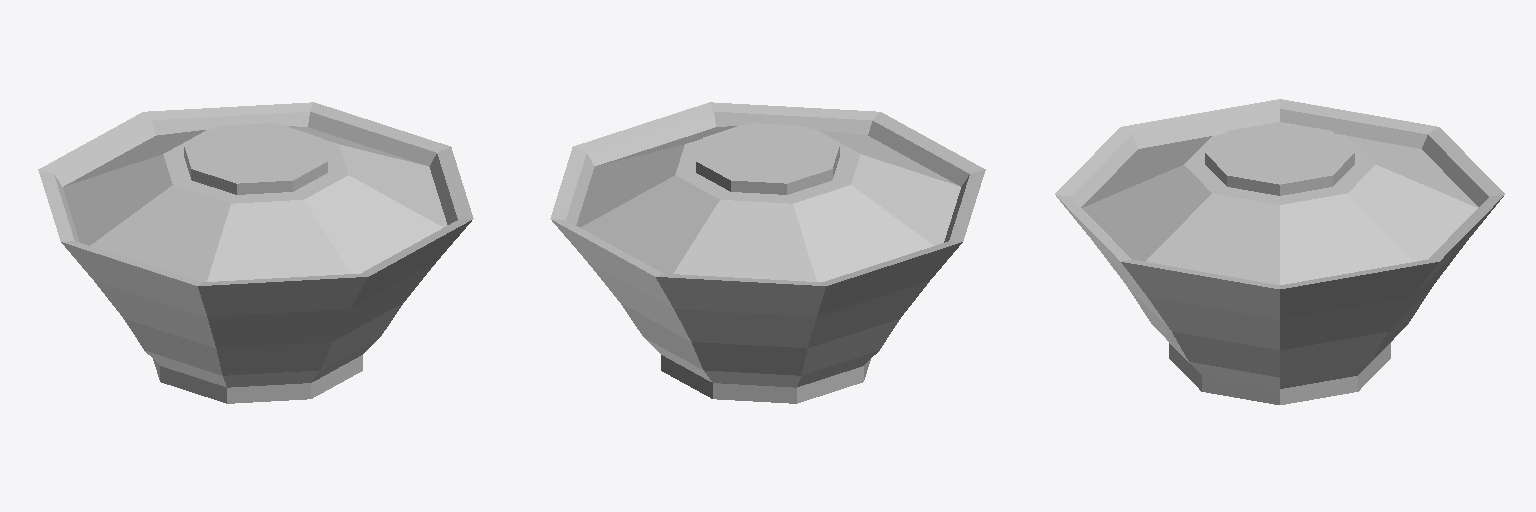
Rendered from serving_bowl_3.obj.
3 renders of one model, left to right at view 1: azimuth 30°, elevation 25°; view 2: azimuth 150°, elevation 25°; view 3: azimuth 270°, elevation 25°, orthographic.
Visible parts, largest first — view 1: serving_bowl_3_Cylinder.137, serving_bowl_3.002_lid_Cylinder.141; view 2: serving_bowl_3_Cylinder.137, serving_bowl_3.002_lid_Cylinder.141; view 3: serving_bowl_3.002_lid_Cylinder.141, serving_bowl_3_Cylinder.137.
Part boxes in pixels (x1,y1,x2,y2): serving_bowl_3_Cylinder.137: (38,102,473,403); serving_bowl_3.002_lid_Cylinder.141: (63,123,447,281); serving_bowl_3_Cylinder.137: (550,102,985,403); serving_bowl_3.002_lid_Cylinder.141: (576,123,960,281); serving_bowl_3.002_lid_Cylinder.141: (1081,122,1478,284); serving_bowl_3_Cylinder.137: (1055,99,1504,404).
Size of the model in its own units: 4.58 by 2.31 by 4.58.